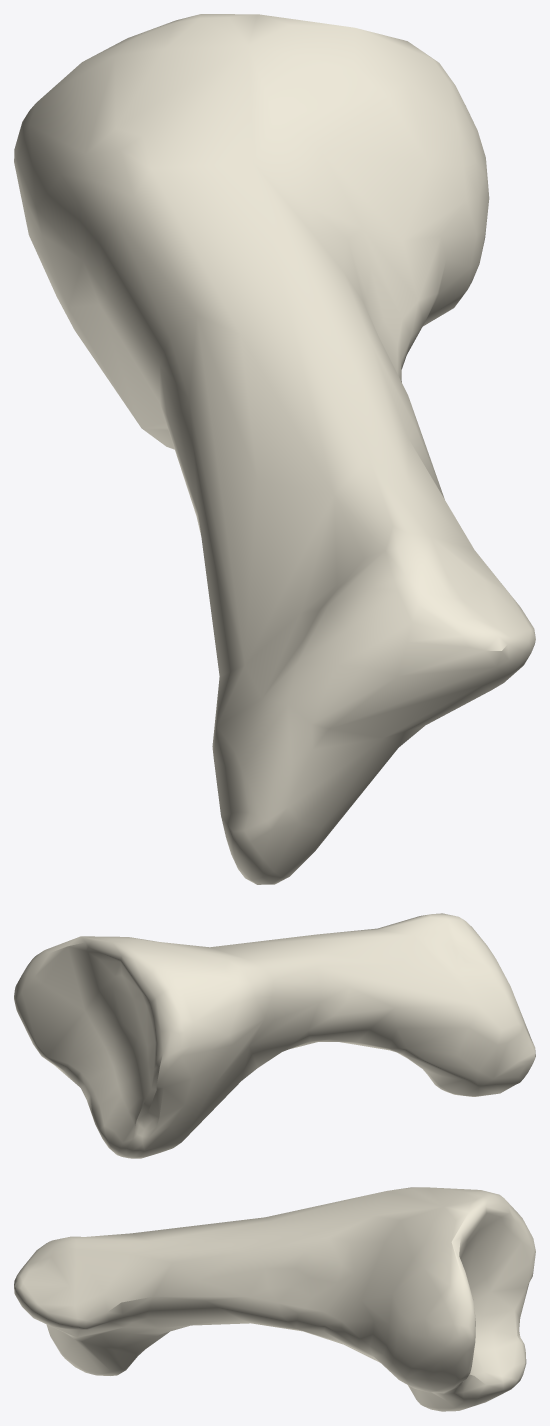
The model's file is fma32638.glb.
3 renders of one model, top to bottom at view 1: azimuth 30°, elevation 25°; view 2: azimuth 150°, elevation 25°; view 3: azimuth 270°, elevation 25°, orthographic. The views are drawn at different scales.
Visible parts, largest first — view 1: FMA32638; view 2: FMA32638; view 3: FMA32638.
Part boxes in pixels (x1,y1,x2,y2): FMA32638: (14, 14, 535, 884); FMA32638: (14, 913, 535, 1158); FMA32638: (14, 1187, 535, 1411).
Size of the model in its own units: 0.0177 by 0.0133 by 0.0253.
